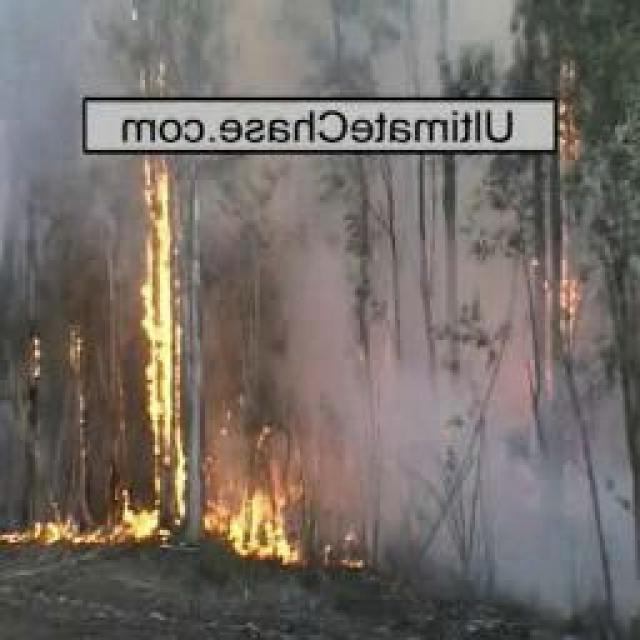Fire: (0, 482, 295, 550), (139, 147, 180, 478), (546, 65, 595, 171), (552, 248, 592, 333), (63, 328, 87, 457), (27, 334, 49, 380)
